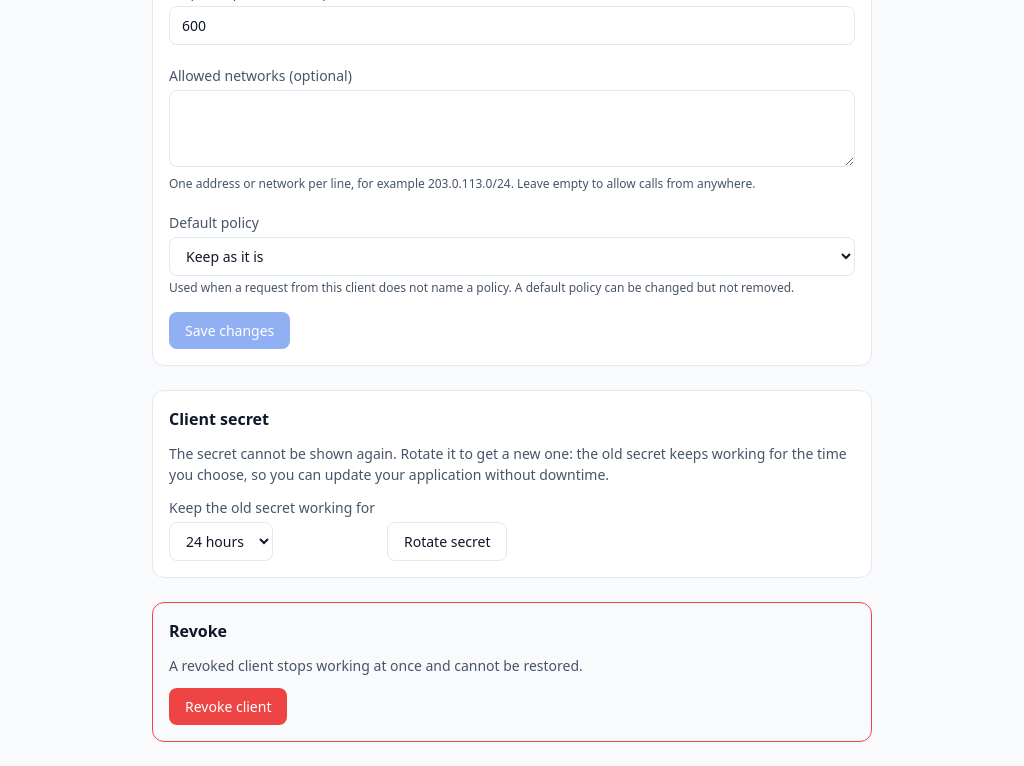
ApiClientDetailPage › shows the new secret once after rotating
(page scrolled)
Click the button "Rotate secret" at [447, 541], box [387,522,508,560]
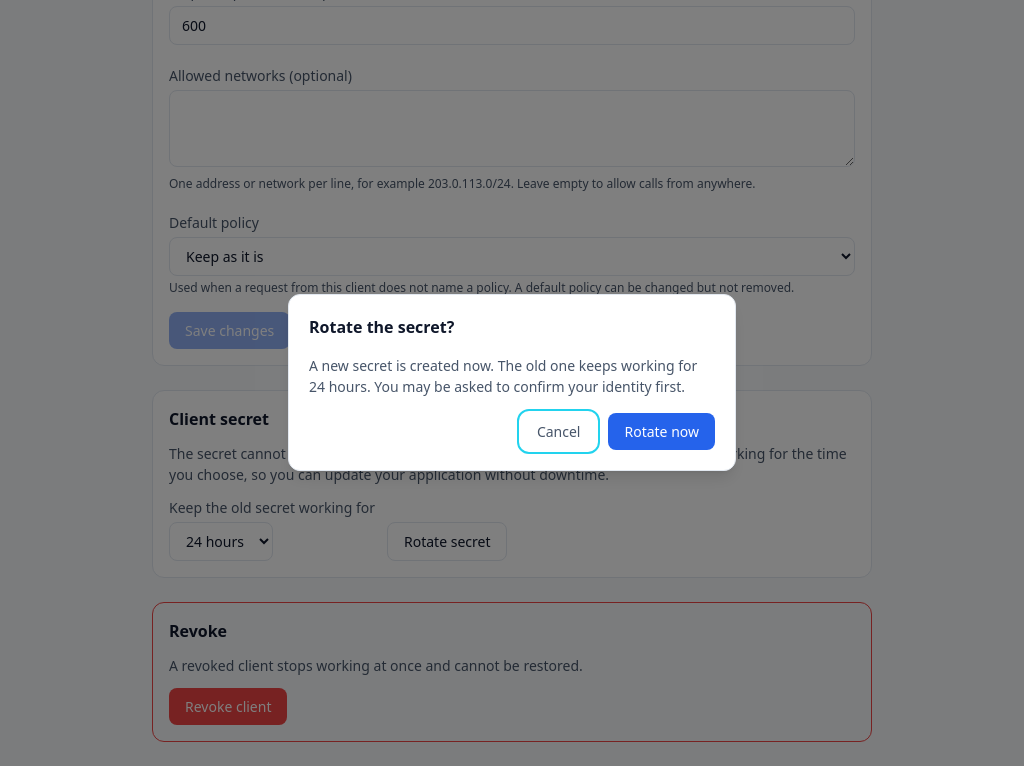
Click the button "Rotate now" at [662, 431], box [608,412,715,450]
(page scrolled)
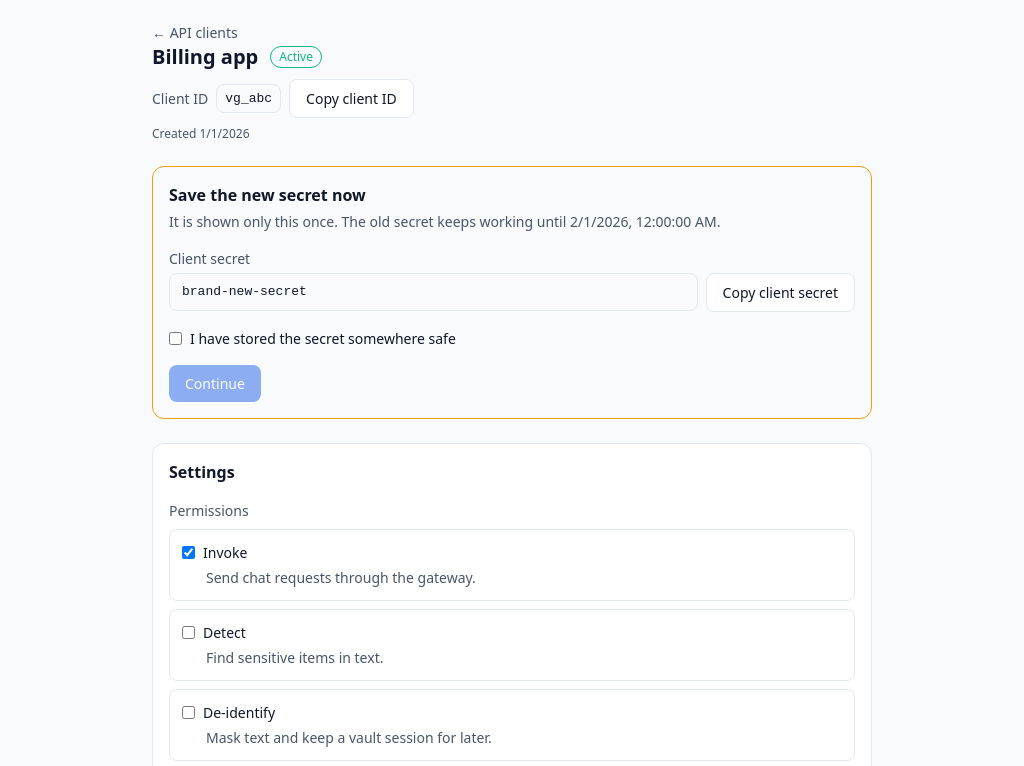
Expected: the text "brand-new-secret" is shown, [169,273,698,310]
